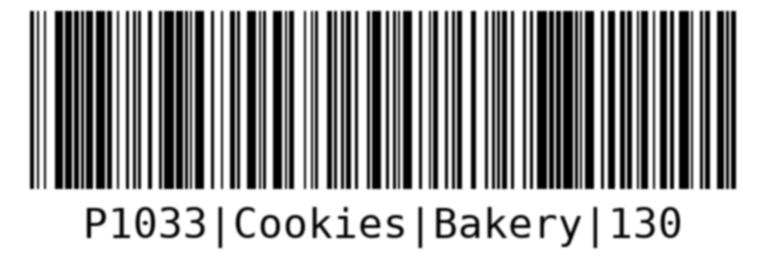milk: (24, 7, 740, 250)
